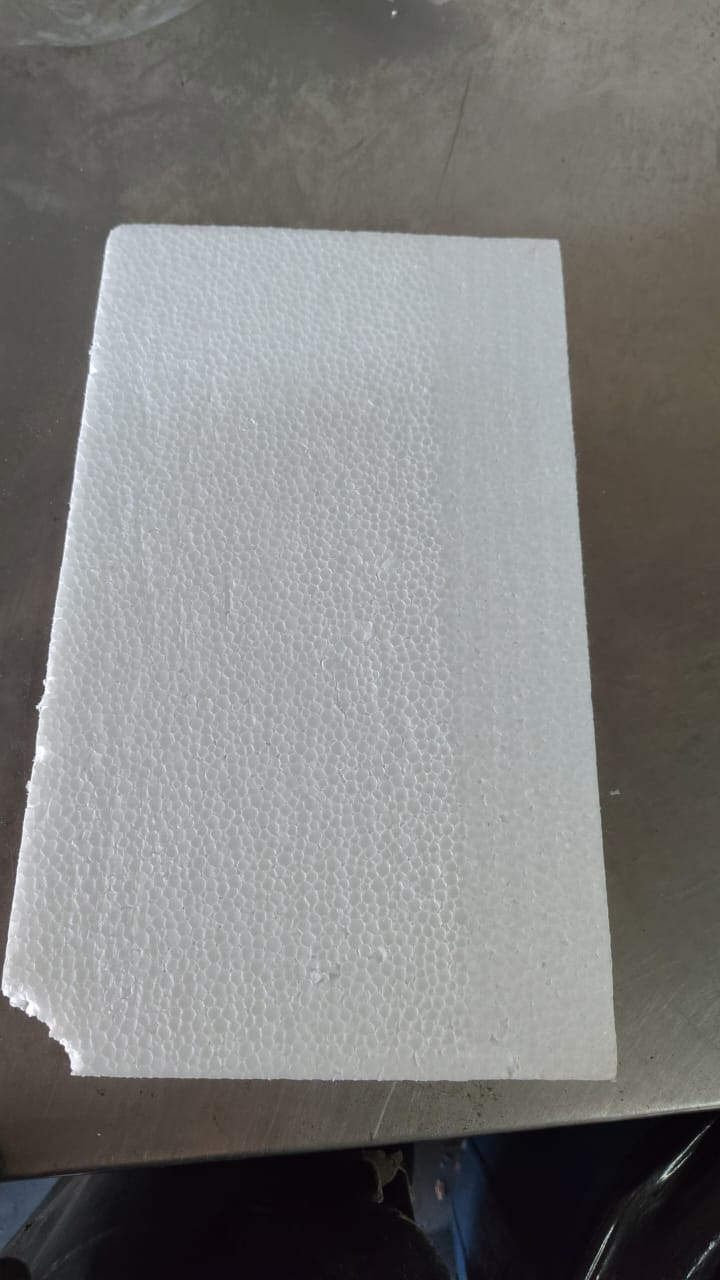Ordinario: (4, 221, 619, 1082)
